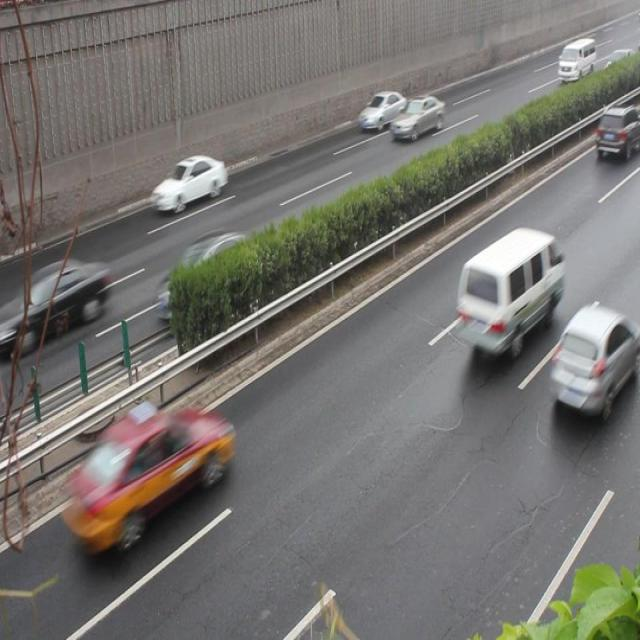car: (69, 405, 230, 548), (548, 305, 630, 420), (153, 231, 258, 319), (18, 255, 108, 338), (151, 155, 227, 214), (594, 103, 640, 162), (389, 94, 444, 142), (358, 90, 407, 132)
truck: (454, 228, 562, 357)
